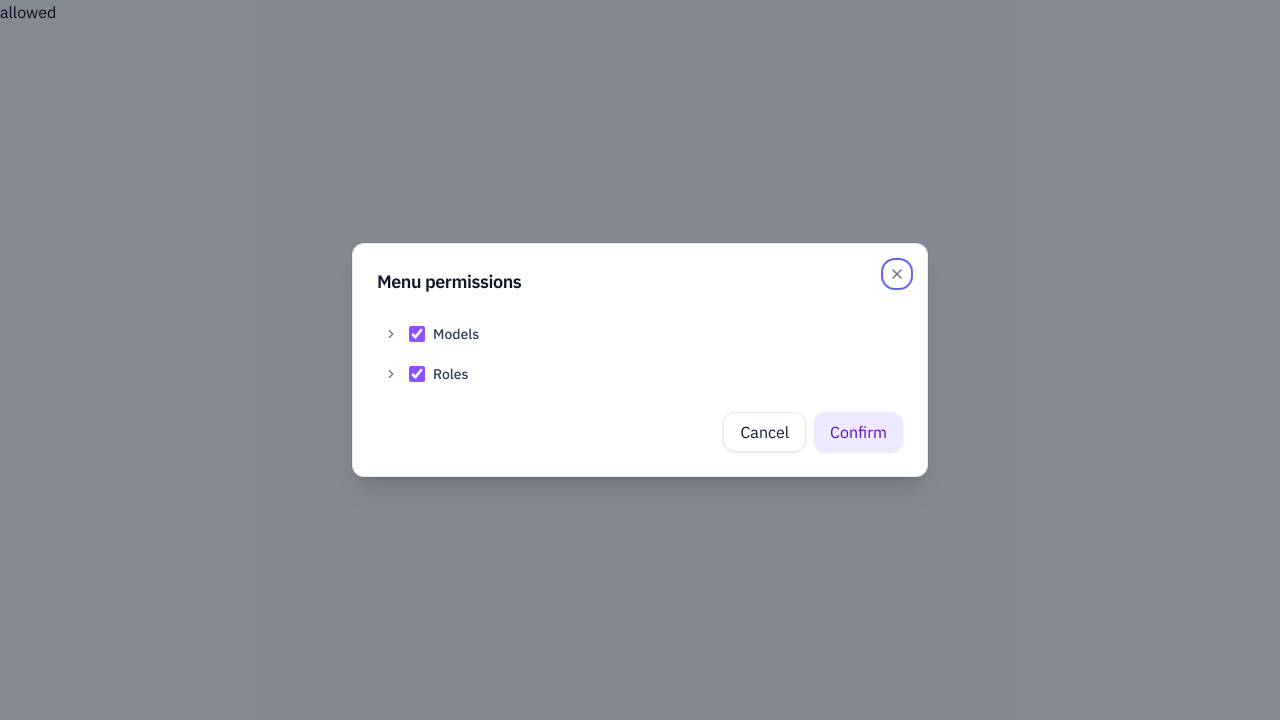
Scenario: refreshes the current identity after saving the admin menu grants
This screenshot has width=1280, height=720.
Expected: the text named "Model access" reads "allowed", [0,2,56,22]
Step 1. Click the button named "Expand Models" → [391, 334], box [377,320,405,348]
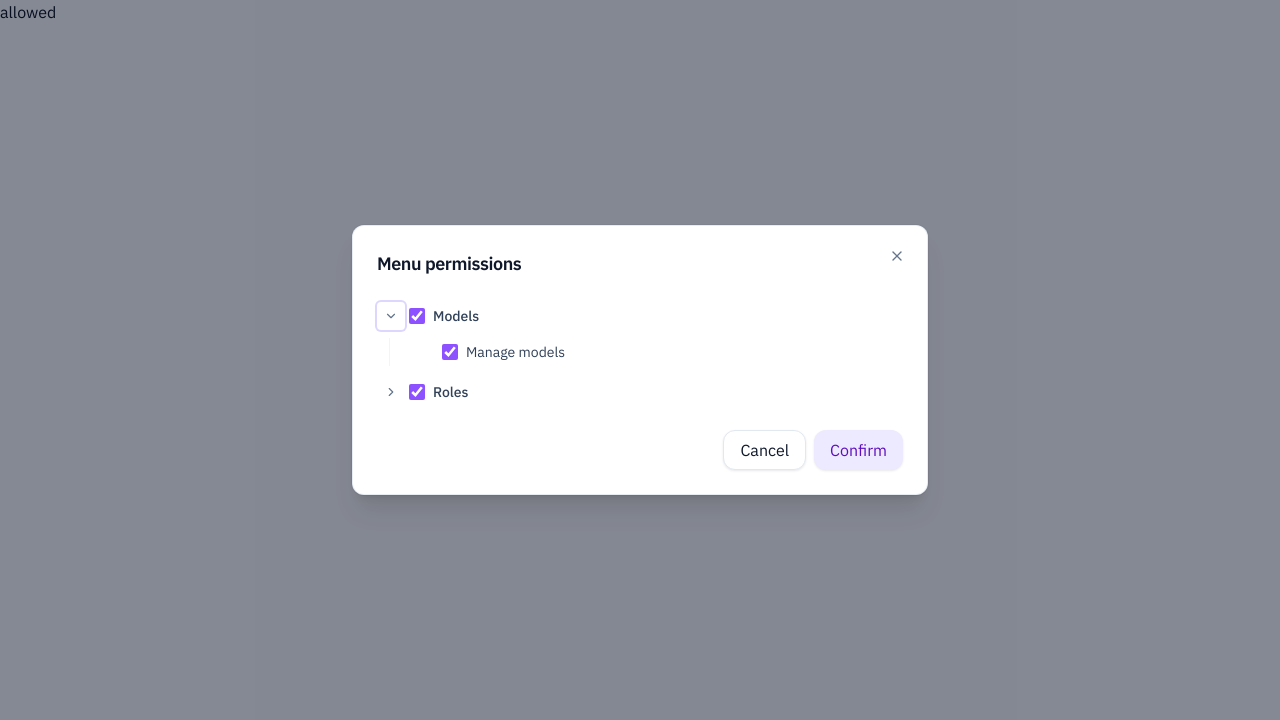
Step 2. Click the checkbox labelled "Manage models" → [450, 352], box [442,344,458,360]
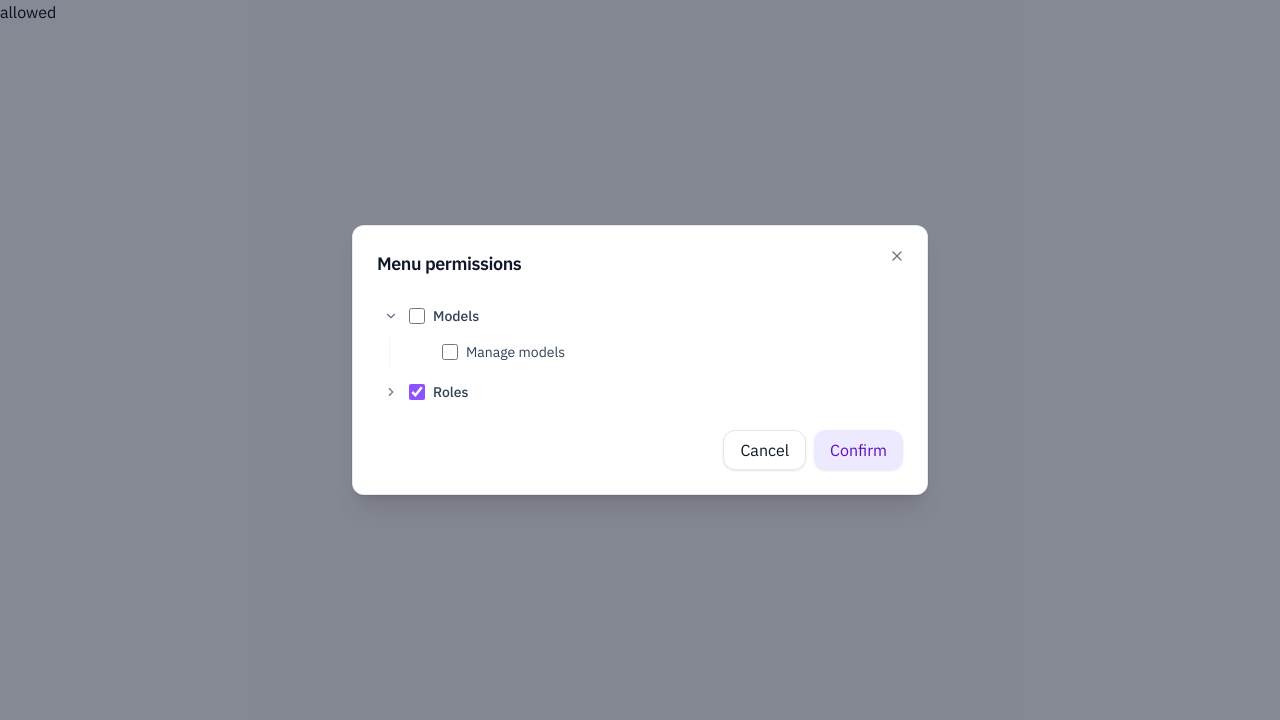
Step 3. Click the button "Confirm" → [859, 450], box [814,430,903,470]
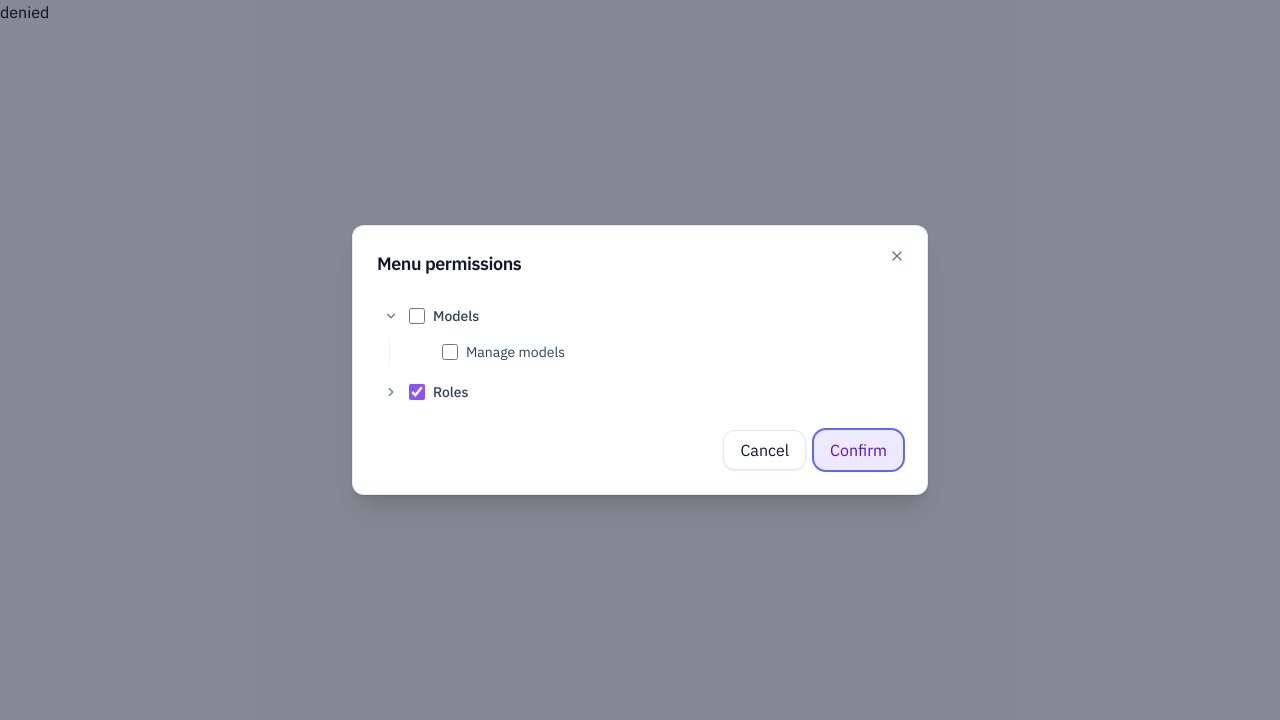
Expected: the text named "Model access" reads "denied", [0,2,49,22]
